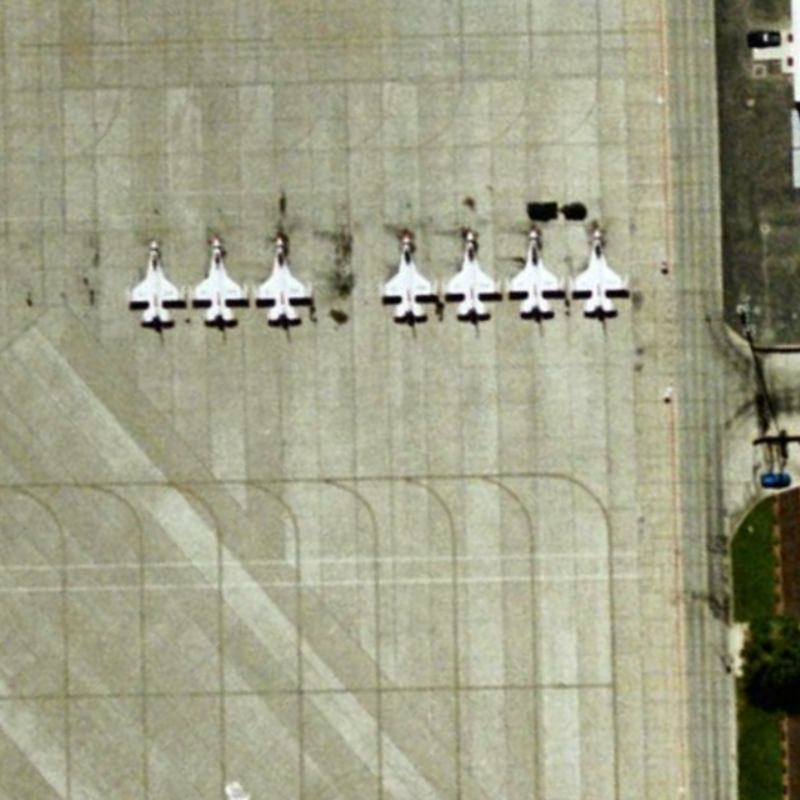A5: (116, 228, 193, 334), (248, 228, 318, 332), (497, 223, 570, 322), (376, 229, 443, 330), (186, 231, 251, 333), (570, 224, 634, 326), (443, 226, 504, 324)
